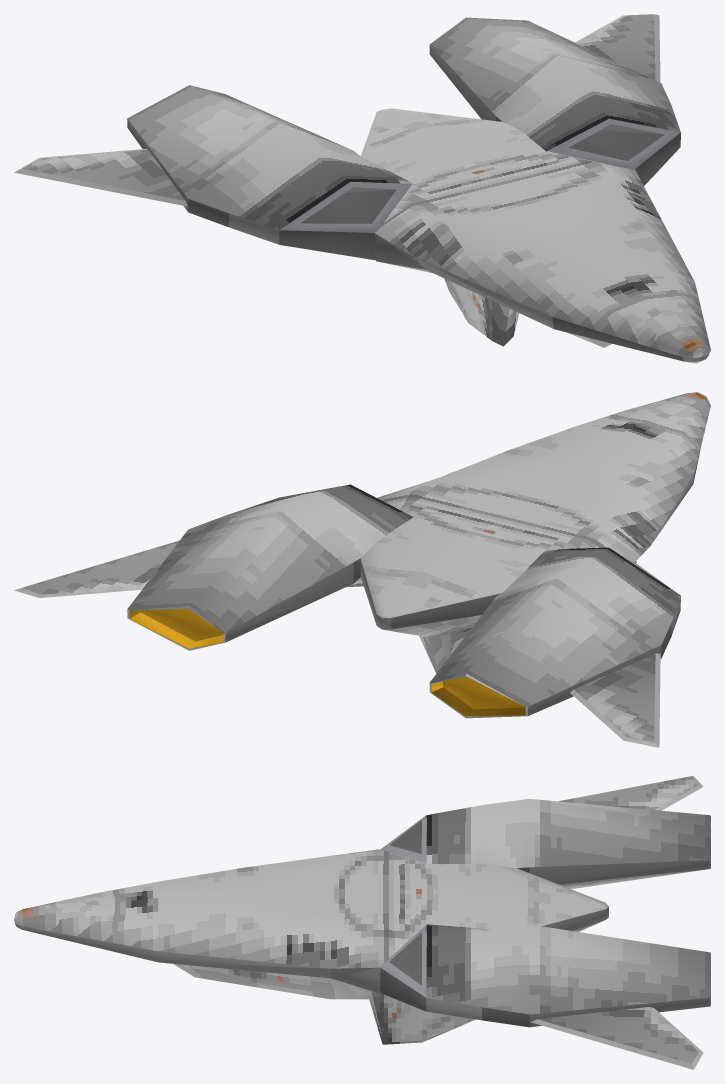
Rendered from ps2_save-icons_hresvelgr.glb.
3 views of the same model, one above another, from view 1: azimuth 30°, elevation 25°; view 2: azimuth 150°, elevation 25°; view 3: azimuth 270°, elevation 25° (orthographic). The views are drawn at different scales.
Parts seen in each view (by area): view 1: stan.ico; view 2: stan.ico; view 3: stan.ico.
Part boxes in pixels (bbox=[...]): stan.ico: bbox=[14, 14, 710, 363]; stan.ico: bbox=[14, 392, 710, 747]; stan.ico: bbox=[14, 776, 710, 1069].
Bounding box in the file's own units: 4.66 × 1.35 × 4.67.
1 material, 1 textured.
